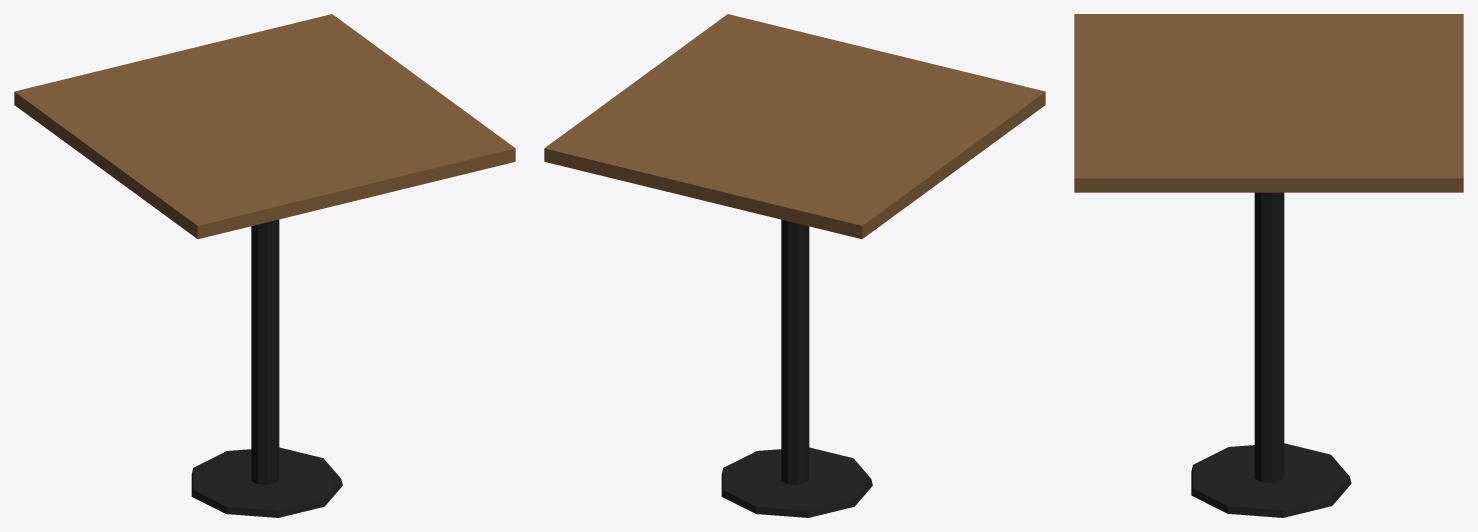
The model's file is table_2.fbx.
The picture shows the model from 3 angles, left to right: view 1: azimuth 30°, elevation 25°; view 2: azimuth 150°, elevation 25°; view 3: azimuth 270°, elevation 25°; orthographic projection. The views are drawn at different scales.
Visible parts, largest first — view 1: table_2; view 2: table_2; view 3: table_2.
Part boxes in pixels (box(x1,y1,x2,y2)): table_2: box(14, 14, 515, 517); table_2: box(544, 14, 1045, 517); table_2: box(1074, 14, 1463, 517).
Bounding box in the file's own units: 71.73 × 78.81 × 71.73.
